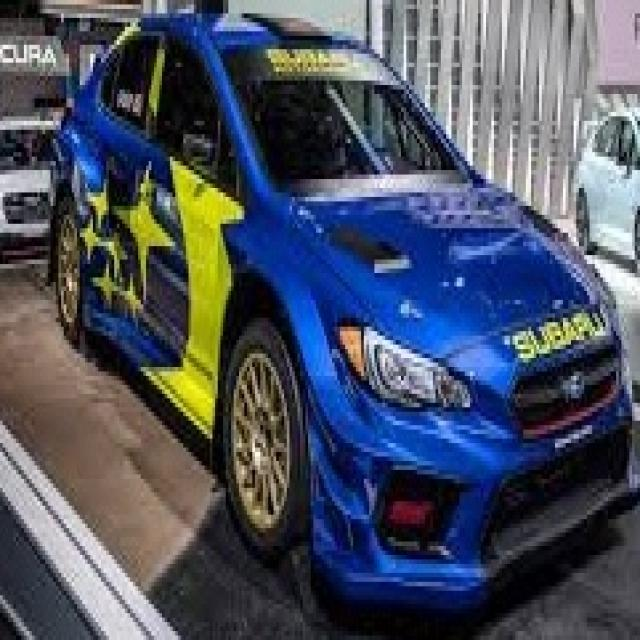blue: (60, 9, 640, 616)
